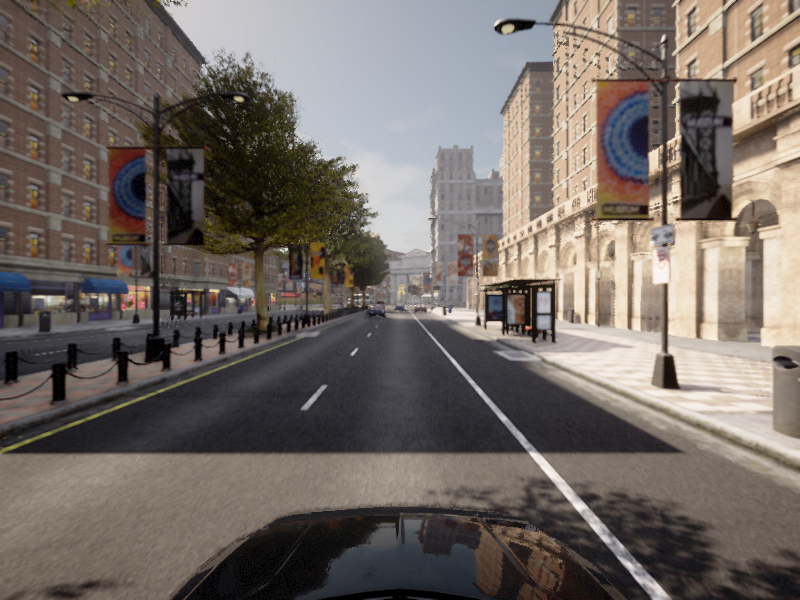vehicle: (256, 302, 271, 324), (365, 305, 386, 318)
